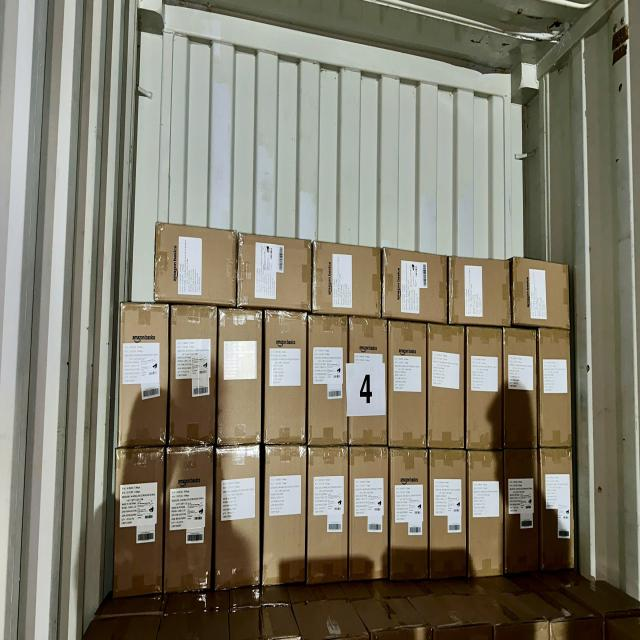Carton: (114, 447, 163, 598), (120, 304, 170, 445), (168, 445, 214, 594), (158, 223, 240, 305), (214, 444, 260, 590), (173, 307, 219, 448), (216, 307, 262, 442), (265, 446, 307, 591), (238, 235, 313, 311), (265, 312, 308, 444), (310, 448, 350, 586), (349, 448, 388, 586), (348, 317, 388, 449), (392, 450, 430, 588), (307, 314, 345, 445), (429, 451, 465, 589), (316, 246, 384, 319), (385, 251, 450, 326), (469, 452, 506, 583), (389, 326, 428, 450), (427, 326, 465, 451), (468, 326, 506, 450), (503, 451, 538, 577), (541, 450, 576, 573), (451, 256, 512, 326), (503, 328, 537, 450), (514, 256, 571, 328), (540, 331, 574, 450)
